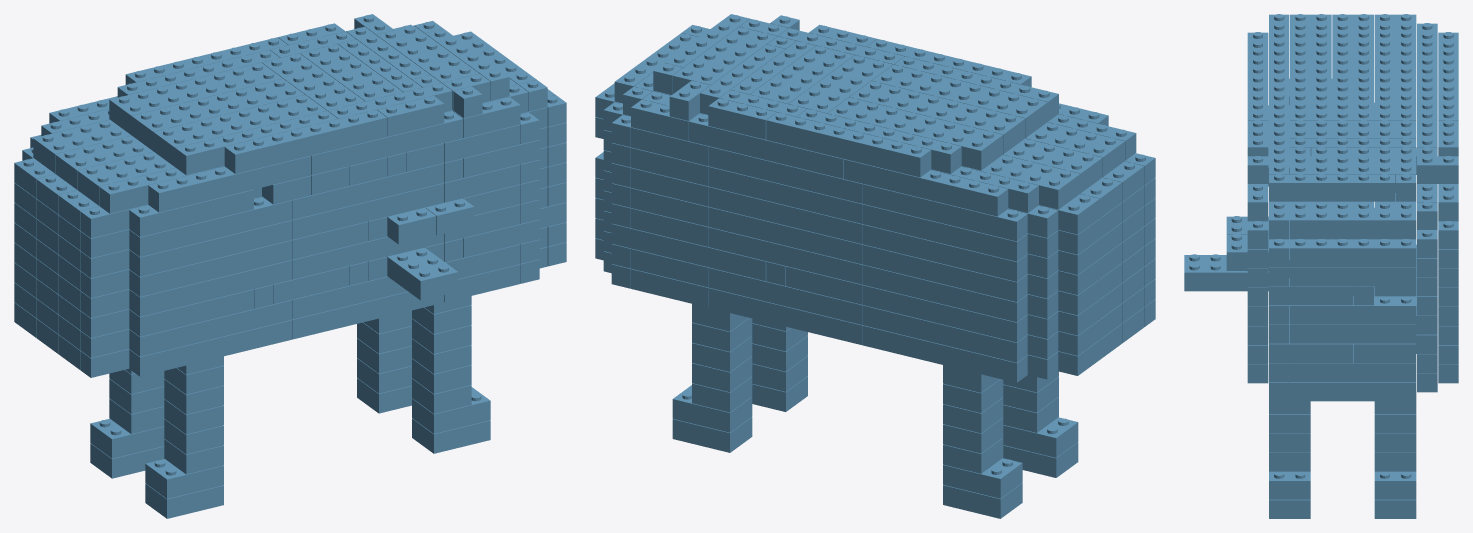
File: 035_bench_L5.glb
3 renders of one model, left to right at view 1: azimuth 30°, elevation 25°; view 2: azimuth 150°, elevation 25°; view 3: azimuth 270°, elevation 25°, orthographic. The views are drawn at different scales.
Size of the model in its own units: 24.98 by 18.13 by 12.98.
